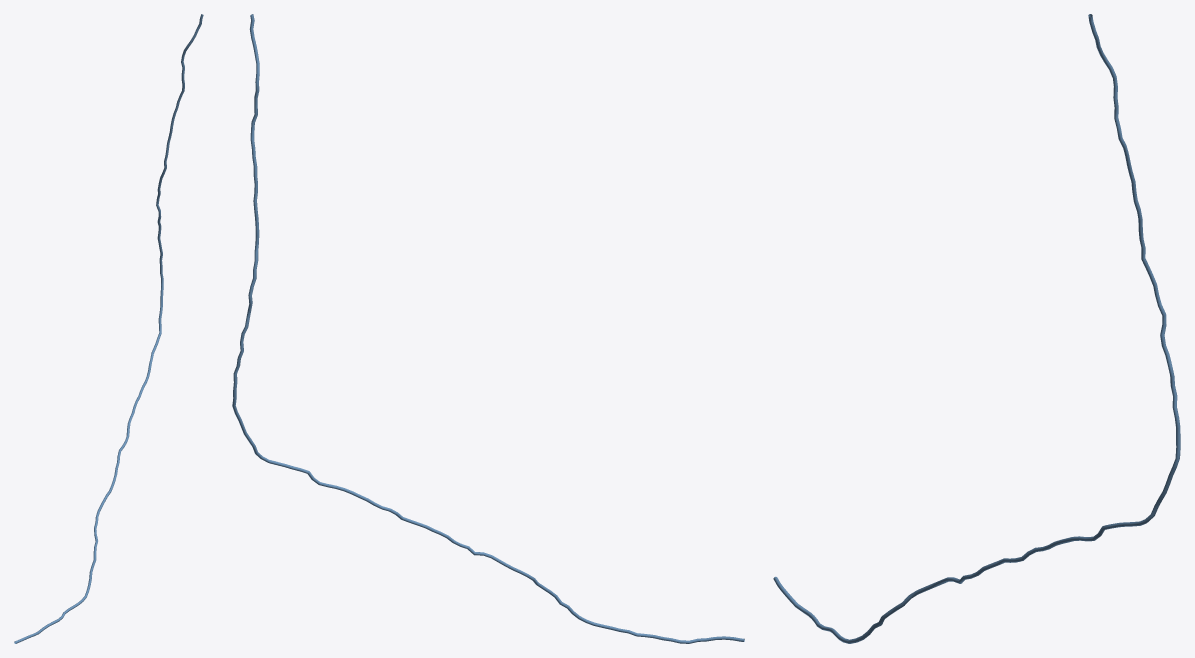
Rendered from sweep147.fbx.
The picture shows the model from 3 angles, left to right: view 1: azimuth 30°, elevation 25°; view 2: azimuth 150°, elevation 25°; view 3: azimuth 270°, elevation 25°; orthographic projection. The views are drawn at different scales.
Parts seen in each view (by area): view 1: sweep147; view 2: sweep147; view 3: sweep147.
Boxes of the visible parts, box(x1,y1,x2,y2) form: sweep147: box(14, 14, 203, 643); sweep147: box(232, 14, 744, 643); sweep147: box(773, 14, 1180, 643).
Bounding box in the file's own units: 2.39 × 3.93 × 1.82.
